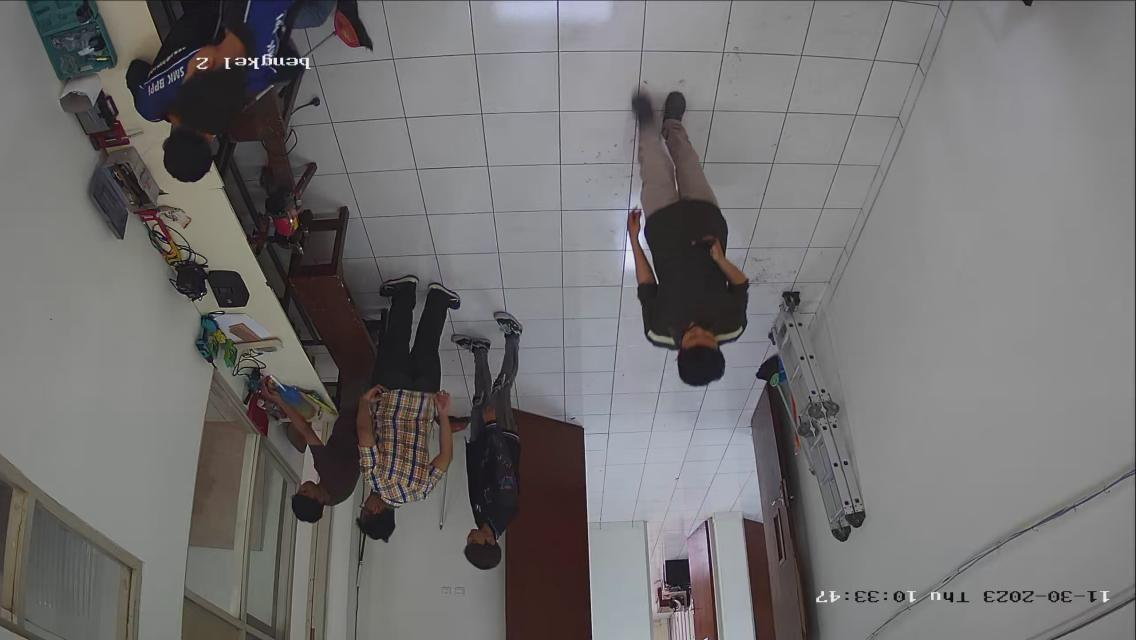Person-Crowd: (620, 79, 742, 384), (362, 264, 444, 552), (457, 307, 519, 572)
